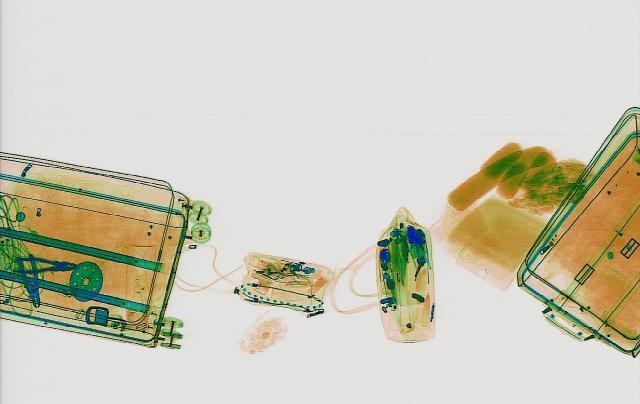Pliers: (18, 253, 42, 306), (11, 256, 75, 271)
